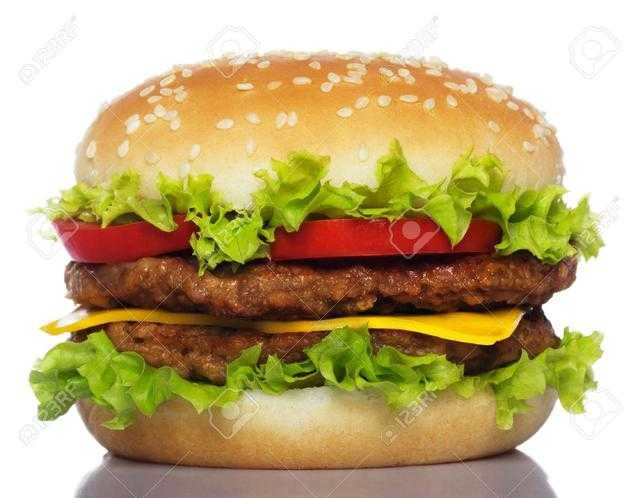hamburger: (50, 56, 599, 470)
